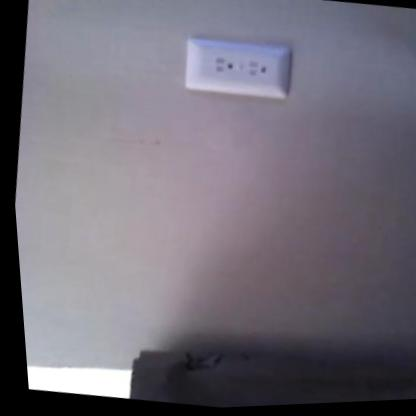OUTLET: (177, 32, 293, 104)
